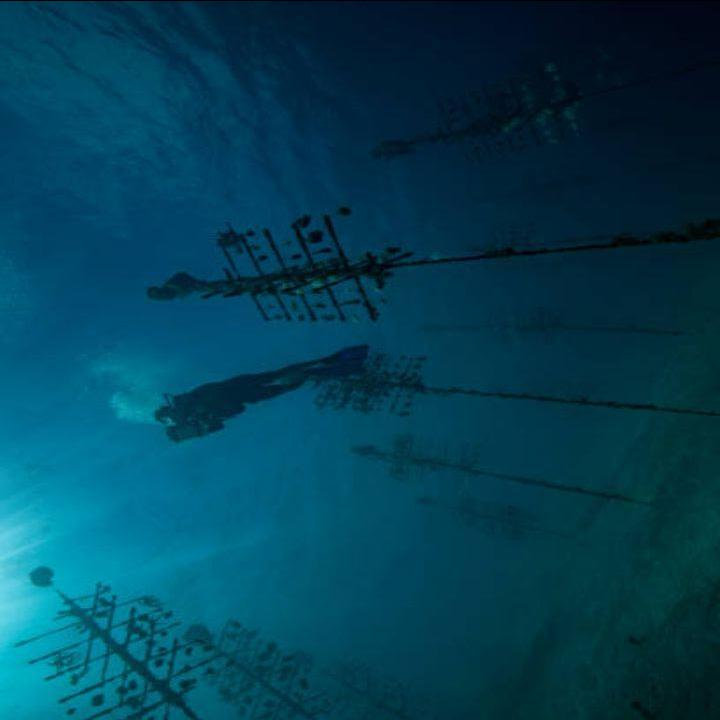Dead Coral: (138, 172, 421, 338), (16, 557, 265, 712)
